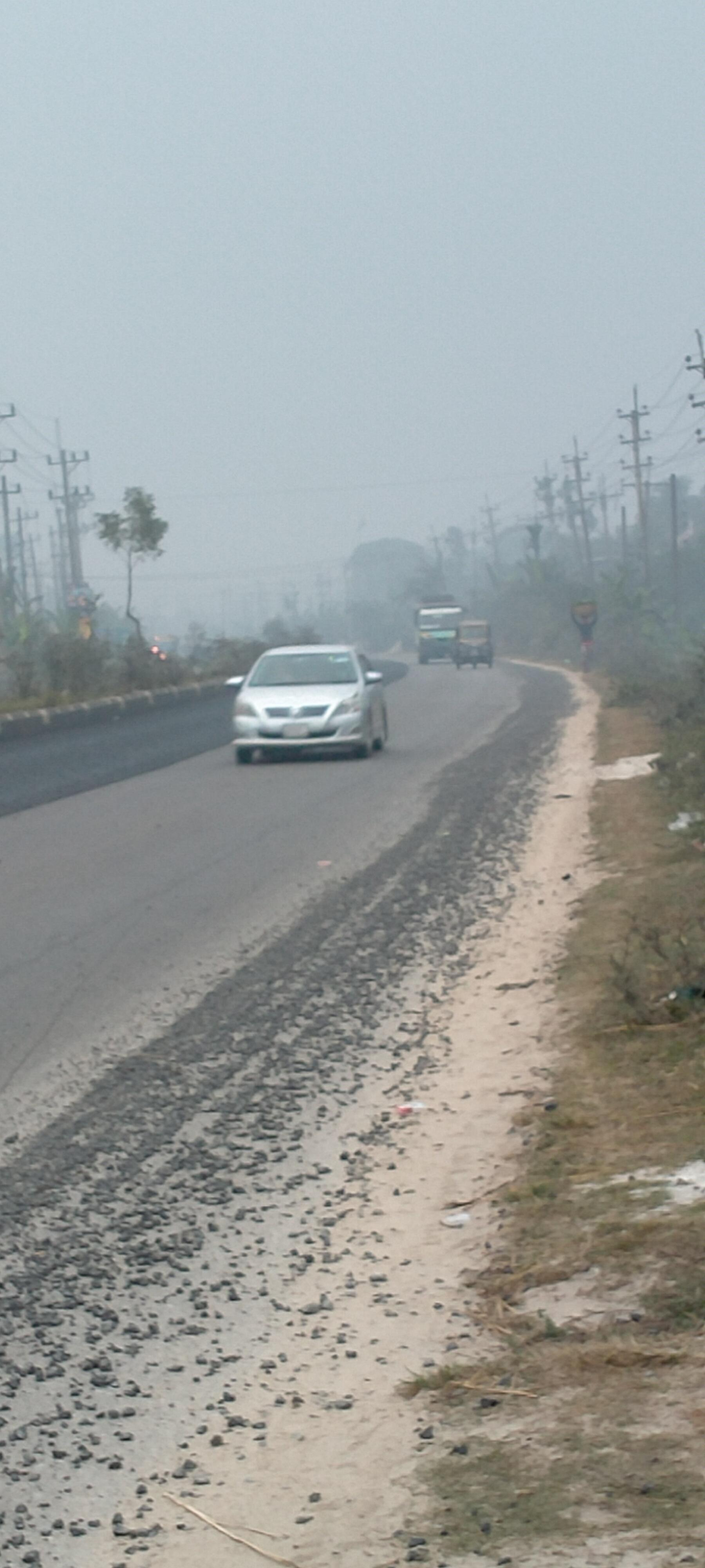Bus: (396, 590, 476, 666)
Car: (206, 629, 406, 795)
